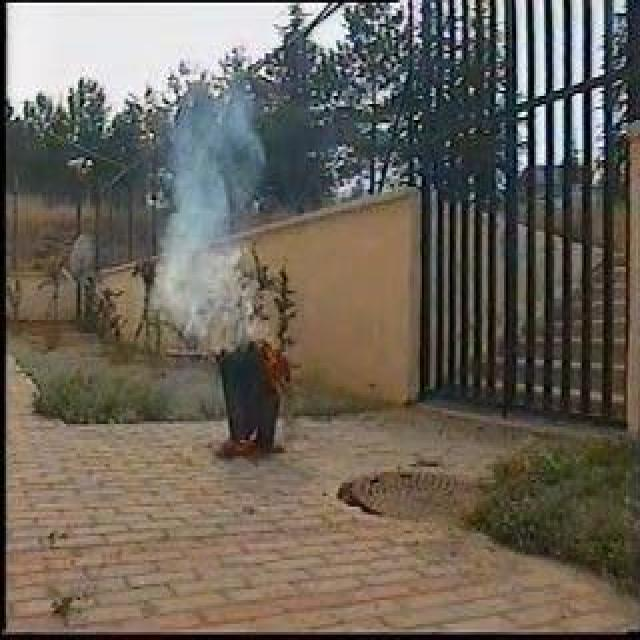Smoke: (155, 91, 257, 341)
